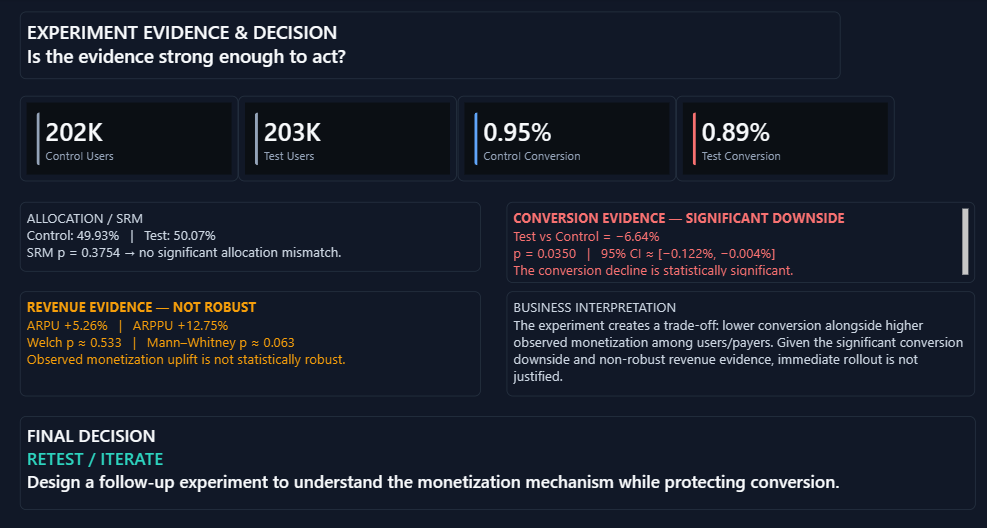

What the dashboard file says about the page in this screenshot:
{"tool":"powerbi","page":{"name":"Experiment Evidence & Decision","canvas":[1280,720],"ordinal":2},"visuals":[{"type":"textbox","box":[27.9,17.6,1050.7,86.6],"z":1000},{"type":"cardVisual","fields":{"Data":["ab_test.Control Users"]},"box":[27.9,124.7,280,110],"z":1000},{"type":"cardVisual","fields":{"Data":["ab_test.Test Users"]},"box":[308.2,124.7,280,110],"z":1000},{"type":"cardVisual","fields":{"Data":["ab_test.Control Conversion"]},"box":[588.5,124.7,280,110],"z":1000},{"type":"cardVisual","fields":{"Data":["ab_test.Test Conversion"]},"box":[868.7,124.7,280,110],"z":1000},{"type":"textbox","box":[27.9,261.2,589.9,89.5],"z":1000},{"type":"textbox","box":[651.6,261.2,600.2,104.2],"z":1000},{"type":"textbox","box":[27.9,375.7,589.9,135],"z":1000},{"type":"textbox","box":[651.6,375.7,600.2,135],"z":1000},{"type":"textbox","box":[28,535,1224,120],"z":1000}]}

Visuals, with their boxes on the page's 1280x720 design canvas (x1, y1, x2, y2). These are canvas units, not pixel positions in the 987x528 screenshot, which may show the page scaled, cropped or inside an application window:
textbox: 28:18:1079:104
cardVisual - ab_test.Control Users: 28:125:308:235
cardVisual - ab_test.Test Users: 308:125:588:235
cardVisual - ab_test.Control Conversion: 588:125:868:235
cardVisual - ab_test.Test Conversion: 869:125:1149:235
textbox: 28:261:618:351
textbox: 652:261:1252:365
textbox: 28:376:618:511
textbox: 652:376:1252:511
textbox: 28:535:1252:655
